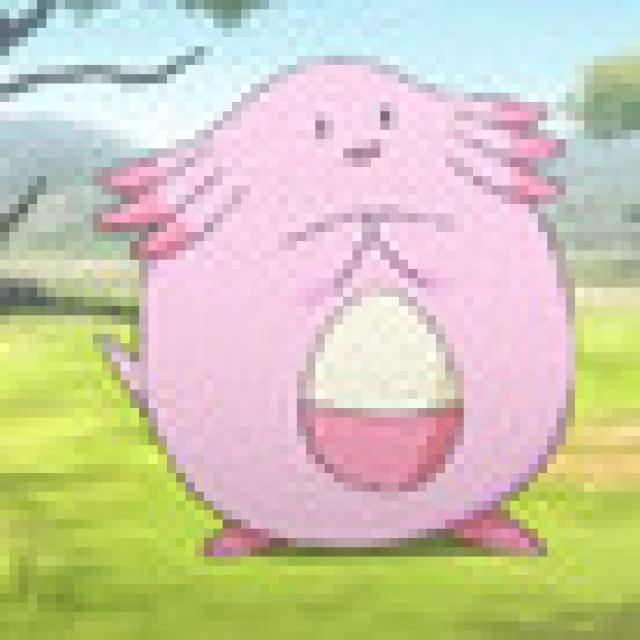Chansey: (98, 56, 586, 557)
